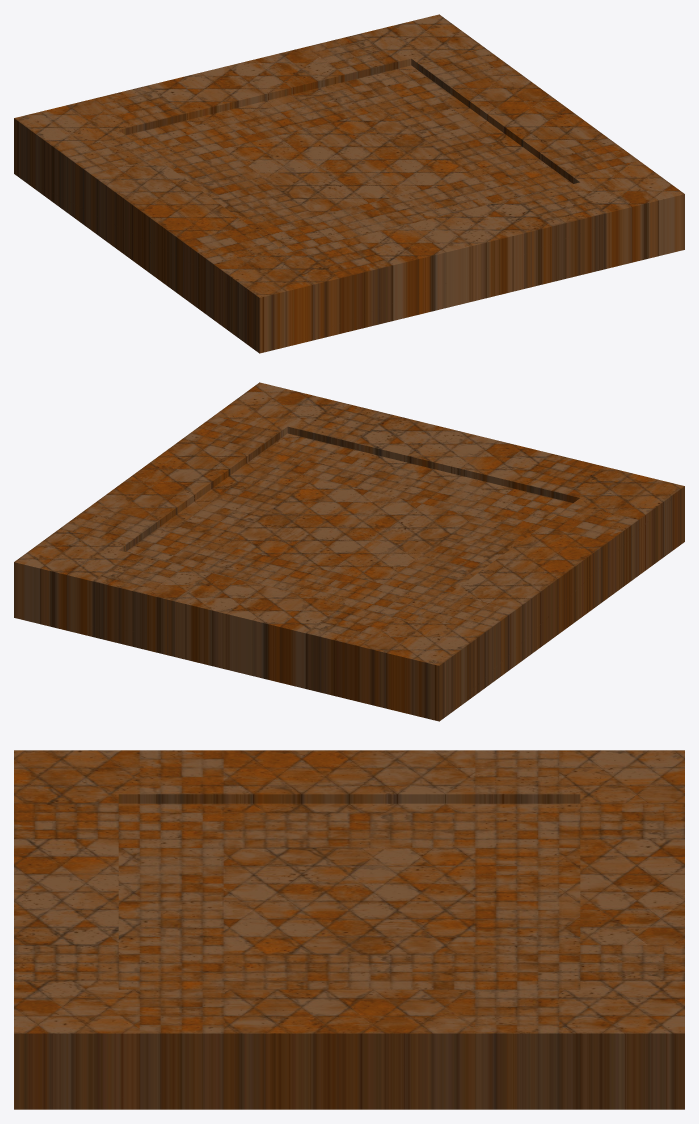
The model's file is Floor.gltf.
3 renders of one model, top to bottom at view 1: azimuth 30°, elevation 25°; view 2: azimuth 150°, elevation 25°; view 3: azimuth 270°, elevation 25°, orthographic. The views are drawn at different scales.
Visible parts, largest first — view 1: Plane; view 2: Plane; view 3: Plane.
Part boxes in pixels (x1,y1,x2,y2): Plane: (14,14,684,353); Plane: (14,382,684,721); Plane: (14,750,684,1109).
Bounding box in the file's own units: 8 × 1 × 8.
1 material, 1 textured.
